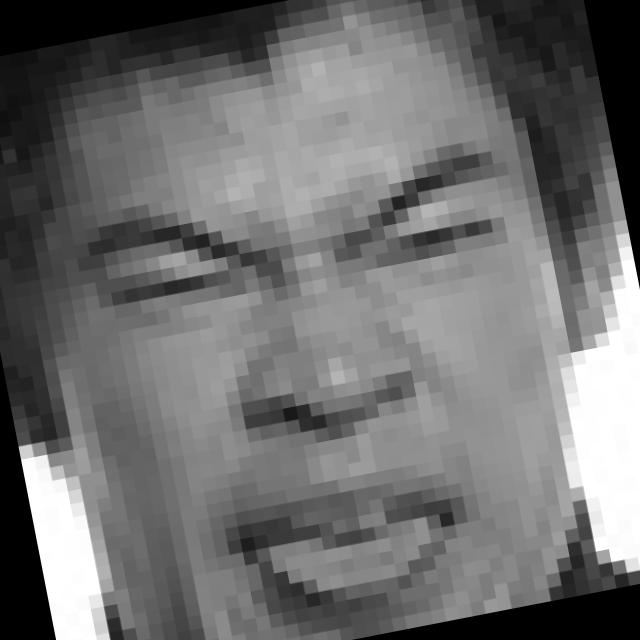disgust: (76, 133, 585, 640)
